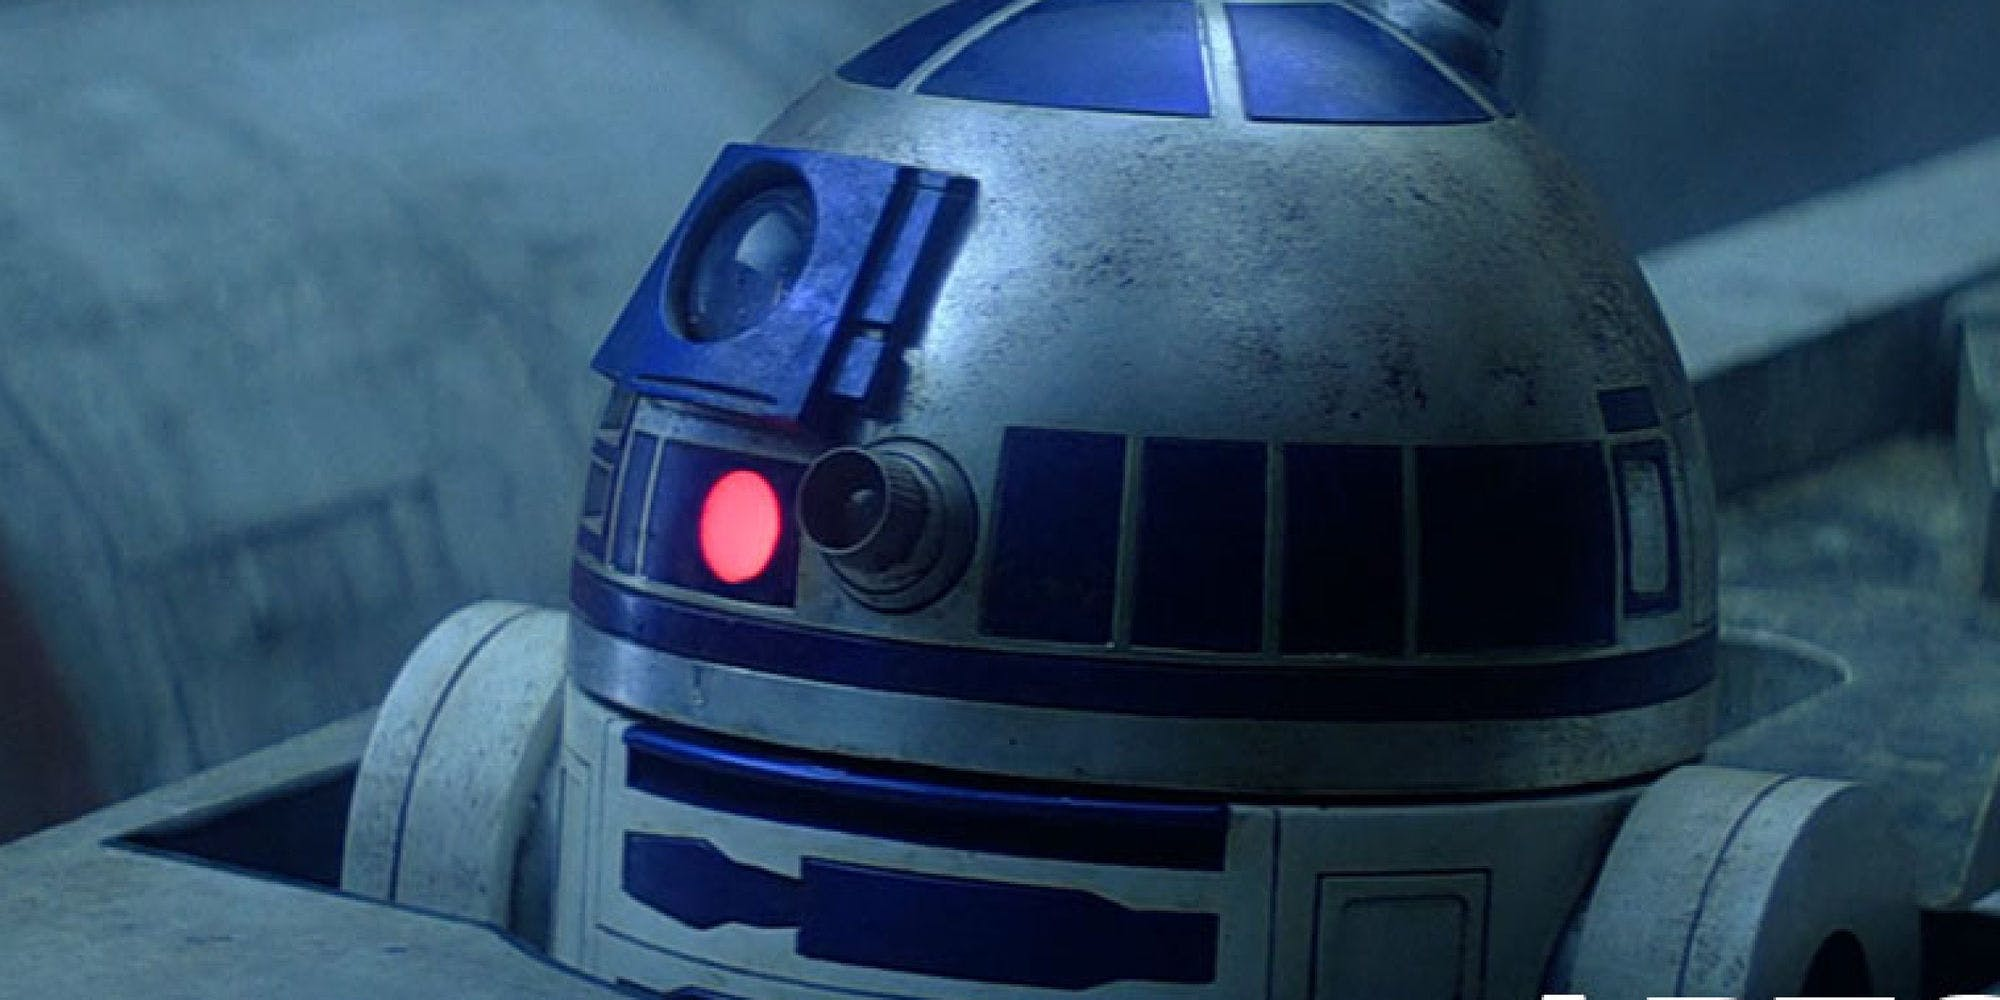r2d2: (362, 3, 1912, 981)
